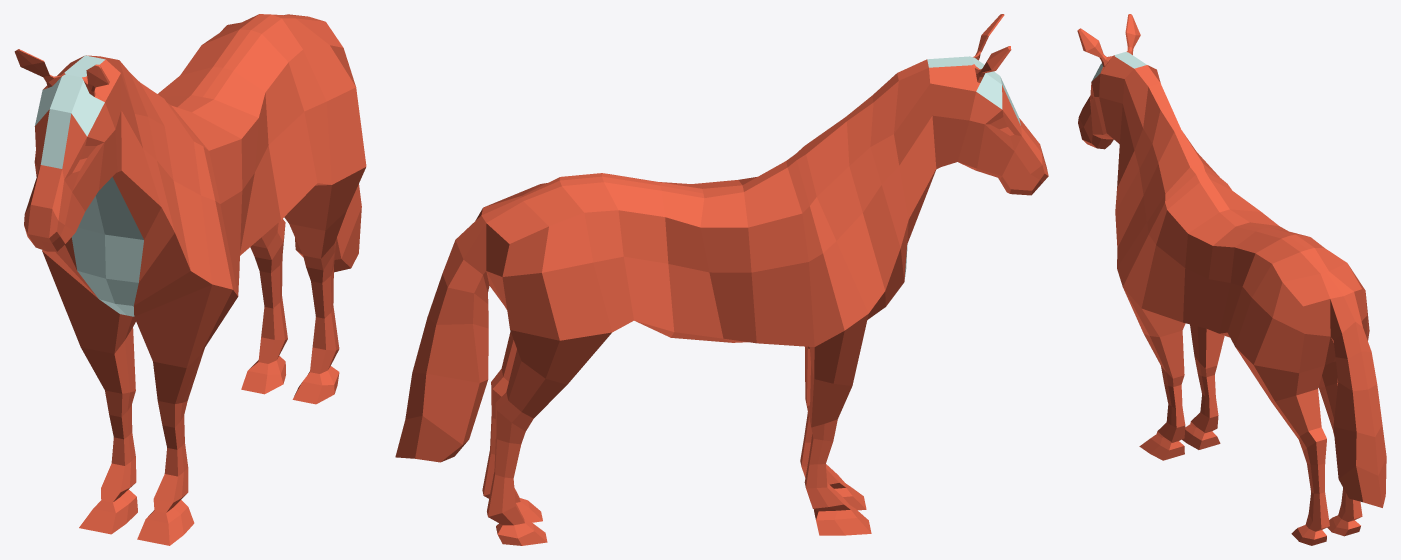
The model's file is HorseForPainting.fbx.
The picture shows the model from 3 angles, left to right: view 1: azimuth 30°, elevation 25°; view 2: azimuth 150°, elevation 25°; view 3: azimuth 270°, elevation 25°; orthographic projection. The views are drawn at different scales.
Parts seen in each view (by area): view 1: Horse; view 2: Horse; view 3: Horse.
Part boxes in pixels (x1,y1,x2,y2): Horse: (14,14,366,545); Horse: (395,14,1048,545); Horse: (1077,14,1386,545).
Bounding box in the file's own units: 452 × 442 × 327.
